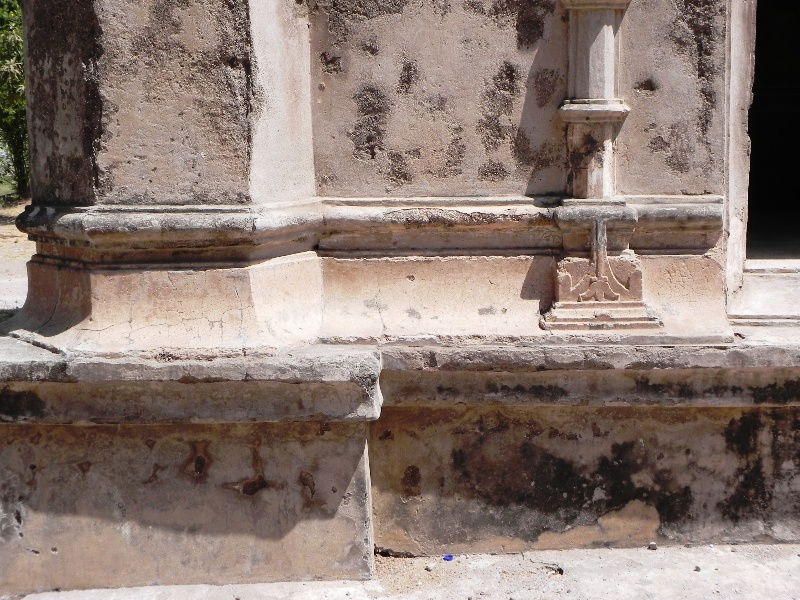Spalling: (193, 5, 266, 138), (677, 1, 718, 137), (468, 57, 524, 155), (508, 1, 549, 57)
